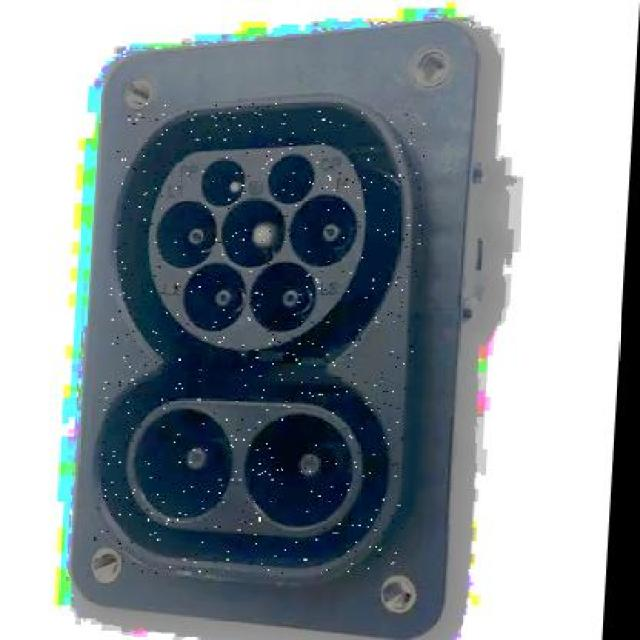CCS2: (80, 96, 438, 620)
